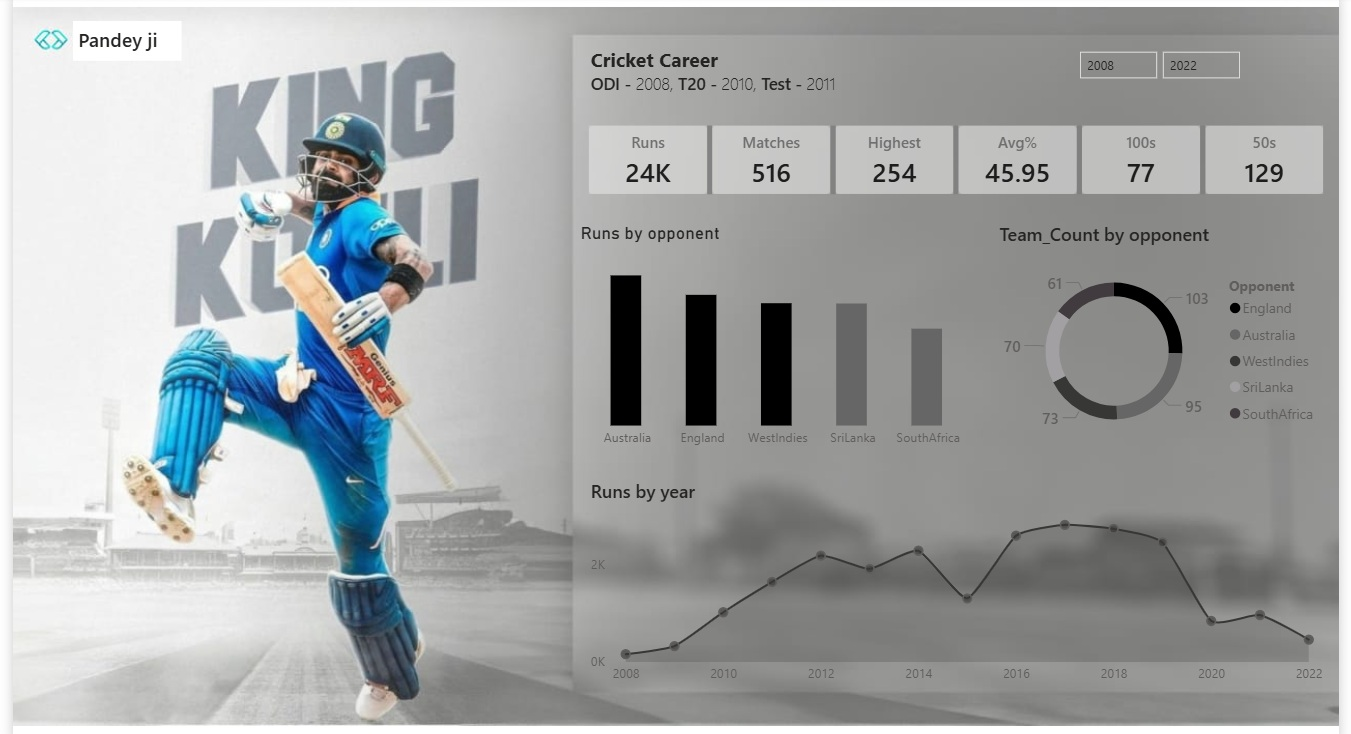

This screenshot's page, from the dashboard's own definition file:
{"tool":"powerbi","page":{"name":"Dashboard","canvas":[1280,720],"ordinal":0},"visuals":[{"type":"cardVisual","fields":{"Data":["Measure_Table.Runs","Measure_Table.Total_Matches","Measure_Table.HighestScore","Measure_Table.Avg%","Measure_Table.100s","Measure_Table.50s"]},"box":[542.9,112.2,737.1,92.9],"z":0},{"type":"clusteredColumnChart","fields":{"Category":["Virat_Kohli.opponent"],"Y":["Measure_Table.Runs"]},"box":[543.4,218.2,391.1,226.4],"z":1000},{"type":"donutChart","fields":{"Y":["Measure_Table.Team_Count"],"Category":["Virat_Kohli.opponent"]},"box":[946.8,218.2,322.5,226.4],"z":2000},{"type":"areaChart","fields":{"Category":["Calender.year"],"Y":["Measure_Table.Runs"]},"box":[553,465.2,716.3,207.2],"z":3000},{"type":"textbox","box":[57.9,24.1,105,38.6],"z":4000},{"type":"slicer","fields":{"Values":["Calender.year"]},"box":[1017,43.4,252.1,68.8],"z":5000},{"type":"textbox","box":[552.5,43.4,278.7,60.3],"z":7001}]}

Visuals, with their boxes on the page's 1280x720 design canvas (x1, y1, x2, y2). These are canvas units, not pixel positions in the 1351x734 screenshot, which may show the page scaled, cropped or inside an application window:
cardVisual - Measure_Table.Runs x Measure_Table.Total_Matches: crop(543, 112, 1280, 205)
clusteredColumnChart - Virat_Kohli.opponent x Measure_Table.Runs: crop(543, 218, 934, 445)
donutChart - Measure_Table.Team_Count x Virat_Kohli.opponent: crop(947, 218, 1269, 445)
areaChart - Calender.year x Measure_Table.Runs: crop(553, 465, 1269, 672)
textbox: crop(58, 24, 163, 63)
slicer - Calender.year: crop(1017, 43, 1269, 112)
textbox: crop(552, 43, 831, 104)
